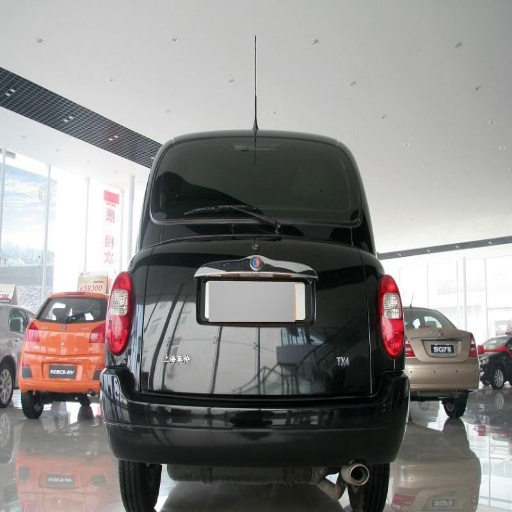back_bumper: (256, 356, 411, 462), (91, 369, 229, 451)
trunk: (109, 239, 381, 404), (21, 321, 81, 387)
